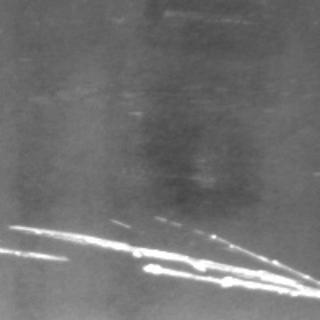scratches: (2, 214, 318, 296)
